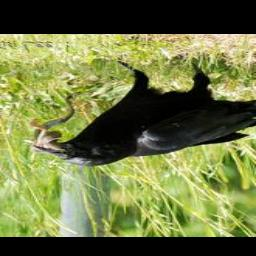Crow: (29, 60, 256, 167)
